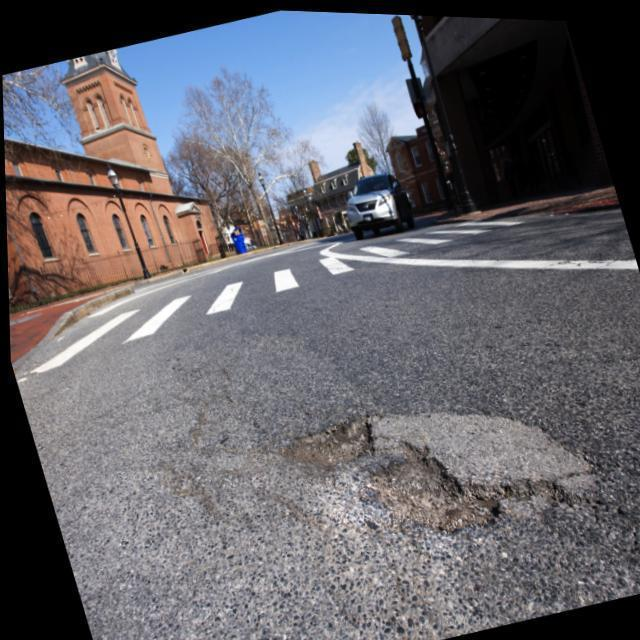Pothole: (366, 449, 576, 531), (276, 413, 376, 464)
